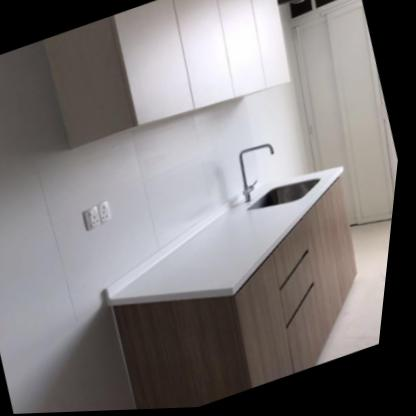Cabinet: (94, 176, 401, 412), (24, 0, 309, 171)
